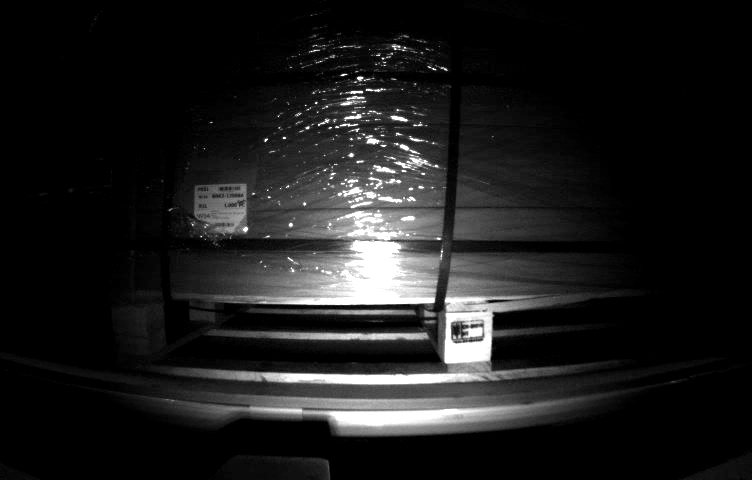True Barcode: (193, 182, 252, 237)
